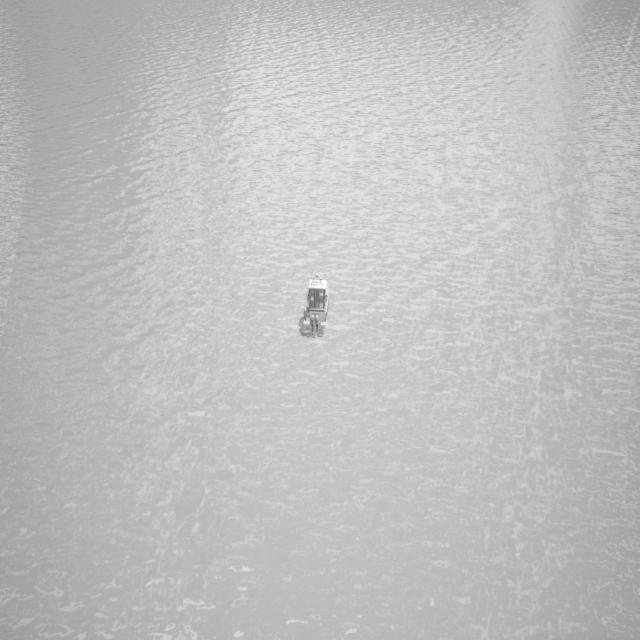ship: (300, 274, 330, 338)
